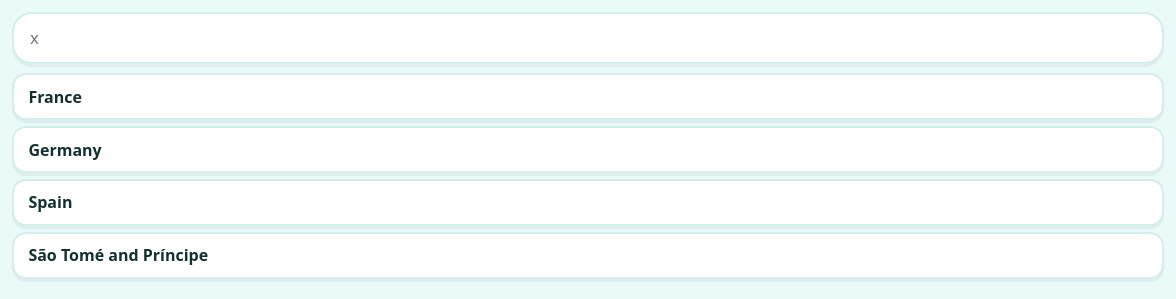
Test: ChallengeSearchList › matches accent-insensitively ("sao" → "São Tomé…")
Type "sao tome" into the field labelled "x".
click(588, 38); type("sao tome")  # box [12,12,1164,64]
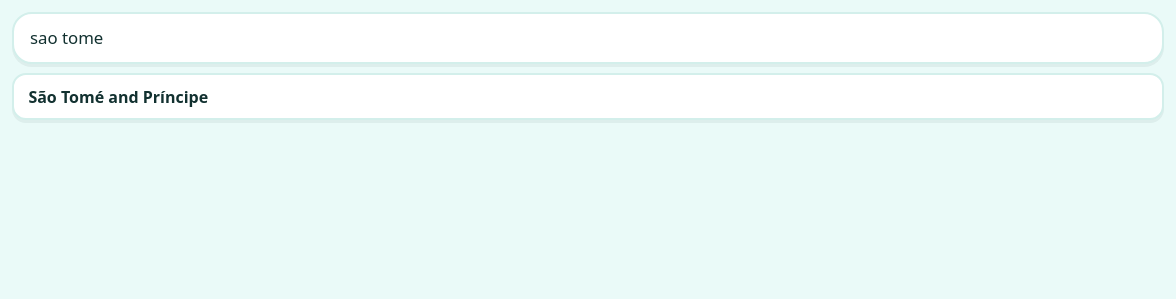
Expected: the button "São Tomé and Príncipe" is shown, [12,73,1164,120]
Now the button "Spain" is gone
